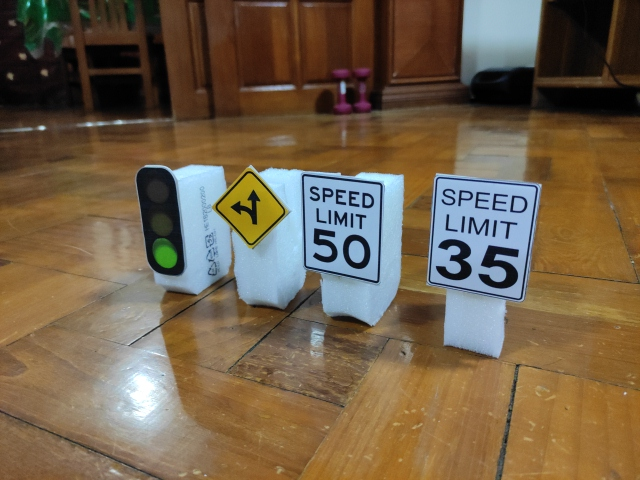Green Traffic Light: (134, 164, 186, 276)
Speed Limit 35: (427, 175, 540, 301)
Speed Limit 50: (300, 171, 384, 286)
Straight Or Left Sign: (214, 166, 290, 246)
